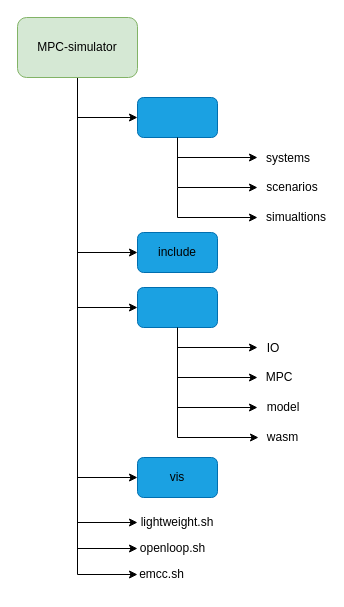
Some shapes in this 344 by 607 pixel diagram are drawn without their labels. Here are the shapes that lost their labels. From the top down, the box of each, then its label:
(136, 96, 218, 138): data
(136, 286, 218, 328): src
